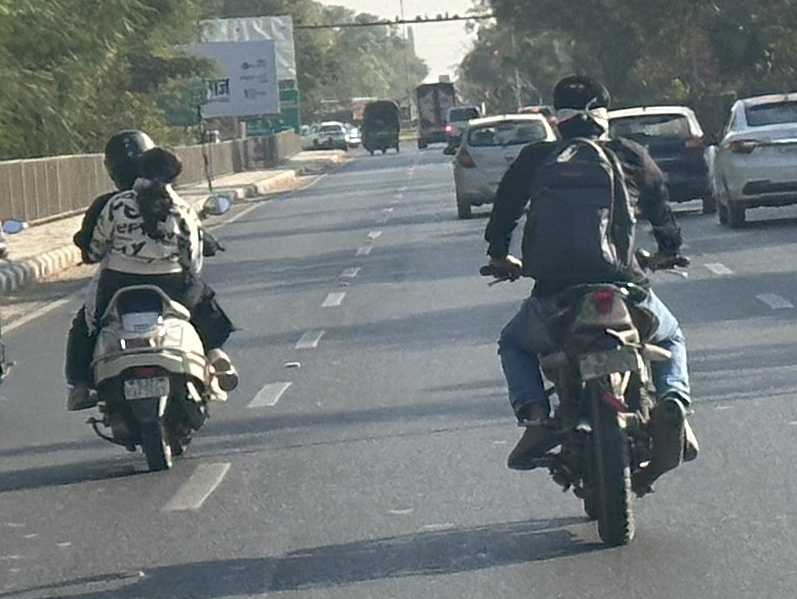BikeWithRider: (473, 64, 711, 549), (55, 114, 252, 491)
Helmet: (94, 130, 158, 189)
NoHelmet: (543, 70, 620, 148), (132, 142, 177, 197)
